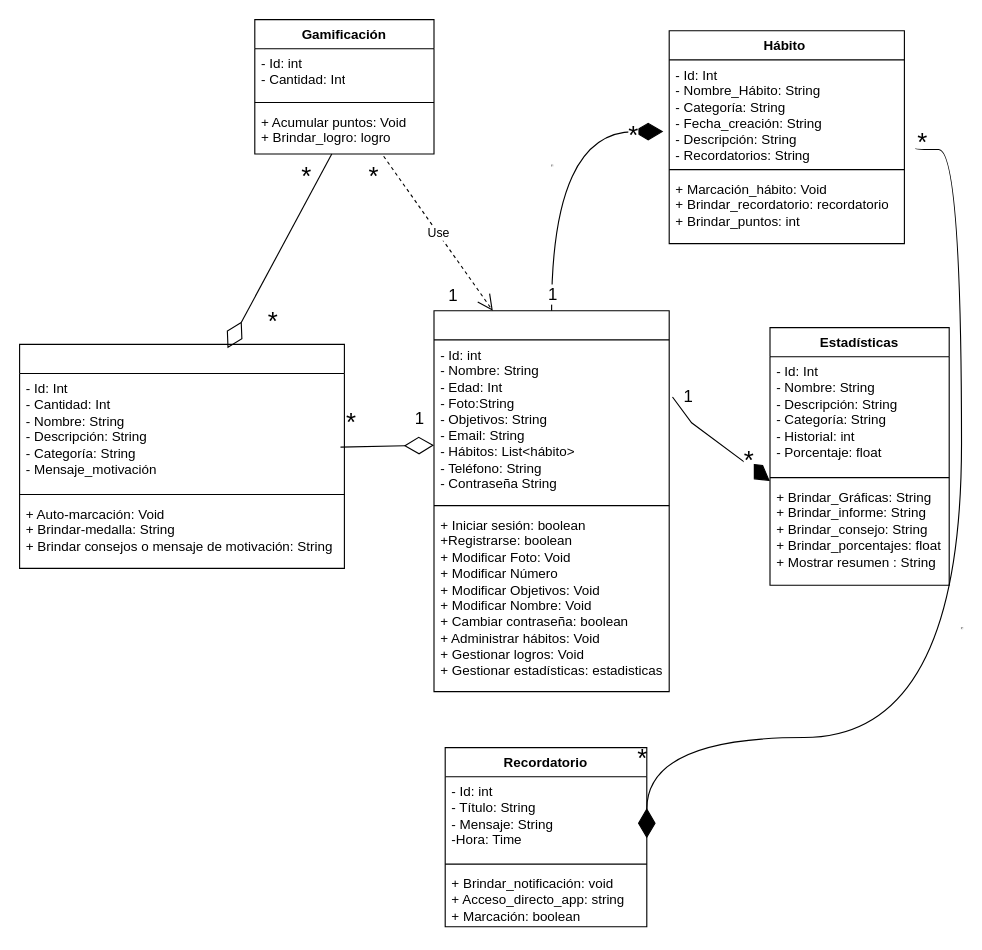
This 982x950 diagram has some shape labels left out. The shapes that lost their labels are listed below. From the top down, each one's box as (x1, y1, x2, y2) in pixels, then its label:
(18, 343, 344, 568): Logros
(433, 310, 669, 692): Usuario
